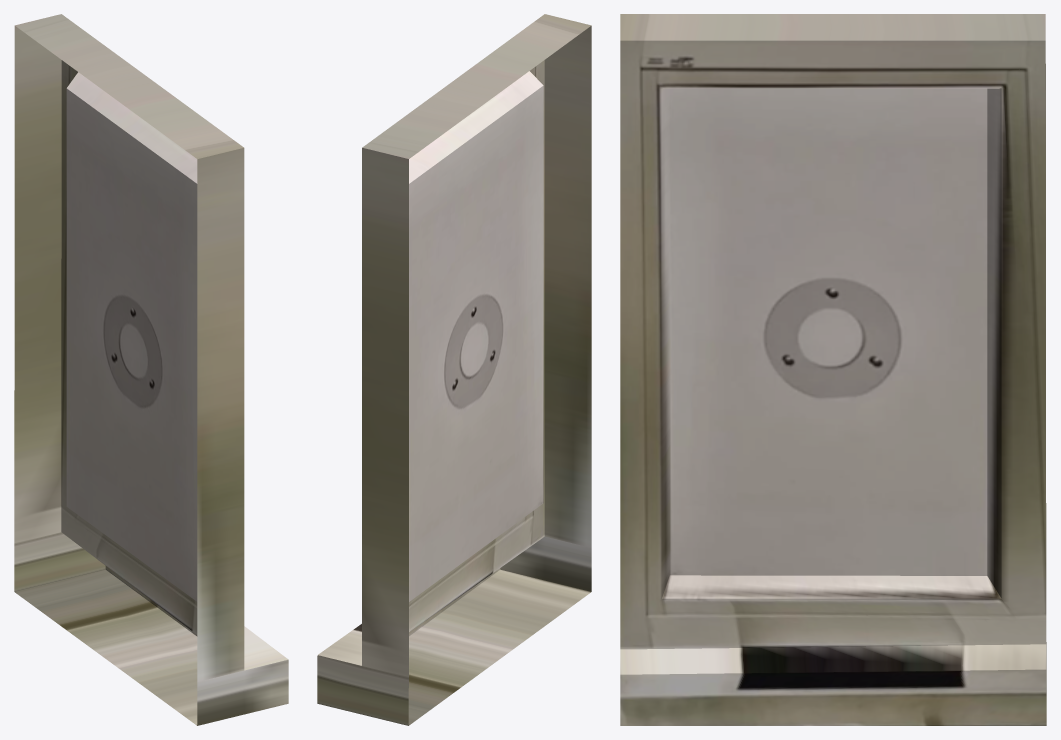
The model's file is SM_Tickets_window.fbx.
The picture shows the model from 3 angles, left to right: view 1: azimuth 30°, elevation 25°; view 2: azimuth 150°, elevation 25°; view 3: azimuth 270°, elevation 25°; orthographic projection. The views are drawn at different scales.
Parts seen in each view (by area): view 1: Object022; view 2: Object022; view 3: Object022.
Boxes of the visible parts, box(x1,y1,x2,y2) form: Object022: box(14, 14, 288, 725); Object022: box(317, 14, 591, 725); Object022: box(620, 14, 1046, 725).
Size of the model in its own units: 45.5 by 270 by 158.
Materials: 1 (1 with a texture image).
